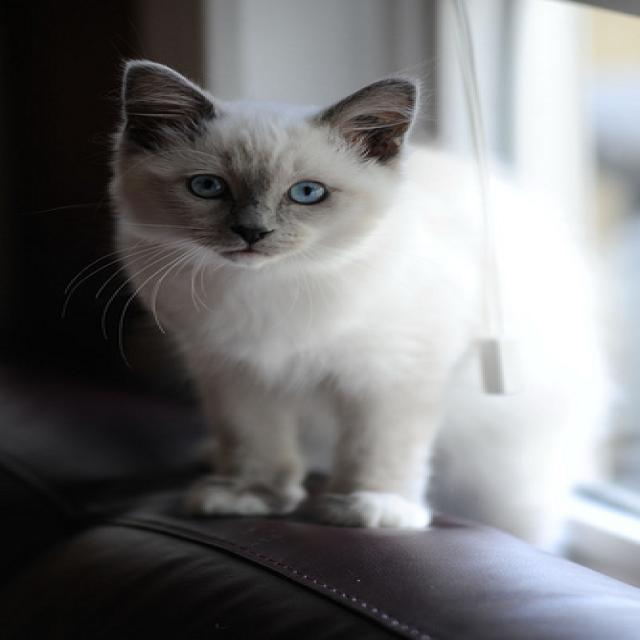Ragdoll: (119, 59, 414, 264)
